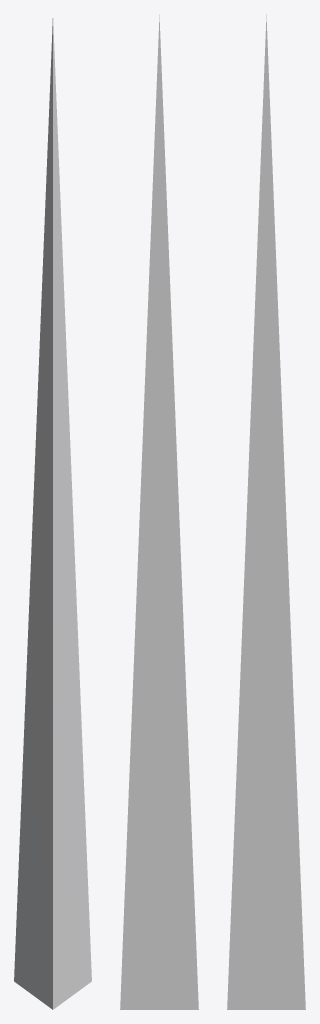
Rendered from Antenna_02.fbx.
The picture shows the model from 3 angles, left to right: view 1: azimuth 30°, elevation 25°; view 2: azimuth 210°, elevation 25°; view 3: azimuth 330°, elevation 25°; orthographic projection.
Visible parts, largest first — view 1: Antenna_02; view 2: Antenna_02; view 3: Antenna_02.
Part boxes in pixels (x1,y1,x2,y2): Antenna_02: [14, 18, 91, 1009]; Antenna_02: [120, 14, 198, 1009]; Antenna_02: [227, 14, 305, 1009].
Size of the model in its own units: 0.9004 by 14.37 by 1.04.
